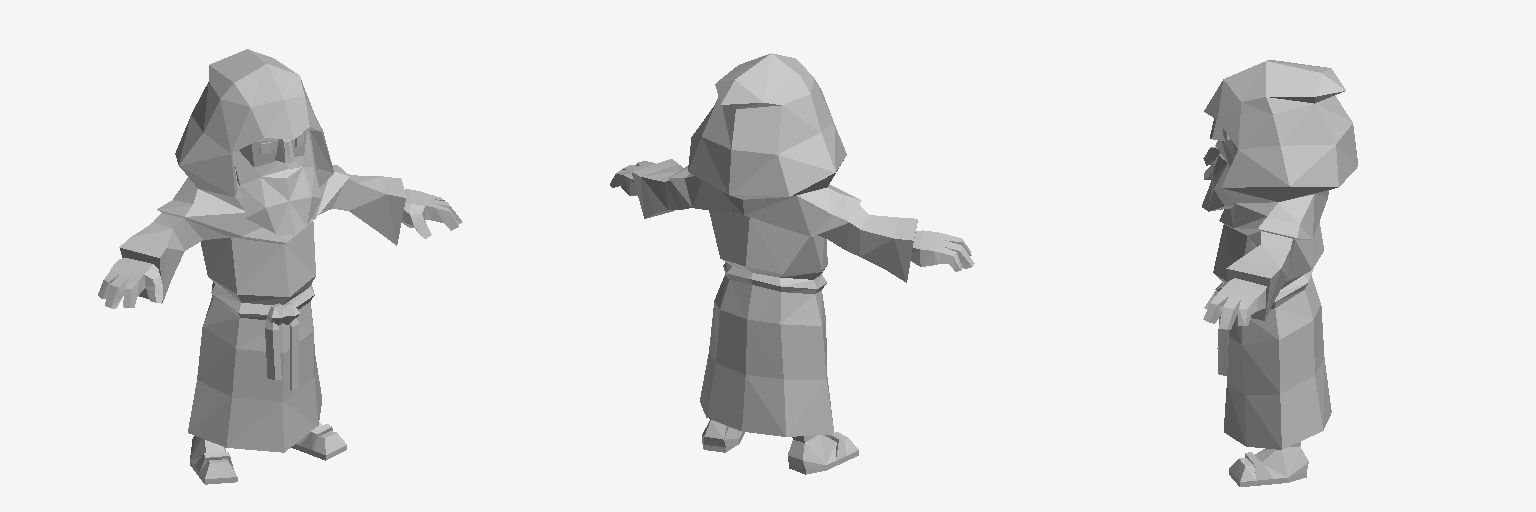
Rendered from monk.obj.
3 renders of one model, left to right at view 1: azimuth 30°, elevation 25°; view 2: azimuth 150°, elevation 25°; view 3: azimuth 270°, elevation 25°, orthographic.
Parts seen in each view (by area): view 1: monk_0; view 2: monk_0; view 3: monk_0.
Boxes of the visible parts, x1=… form: monk_0: x1=98, y1=49, x2=462, y2=484; monk_0: x1=610, y1=53, x2=974, y2=474; monk_0: x1=1202, y1=60, x2=1357, y2=486.
Size of the model in its own units: 1.45 by 1.53 by 0.5549.